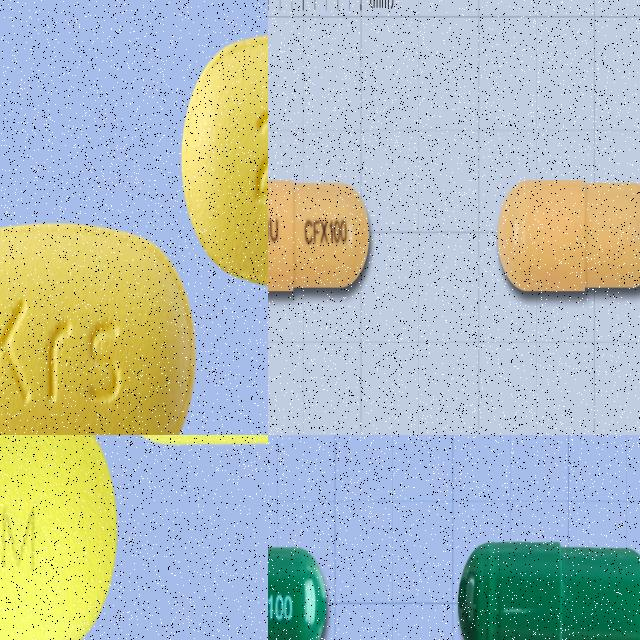Cefsin Cap: (494, 178, 640, 299), (268, 173, 373, 299)
Claritin: (0, 435, 118, 640)
Clomicin: (0, 220, 196, 435), (182, 30, 268, 294)
Doxiramycin Cap: (458, 539, 640, 640), (268, 540, 328, 640)
